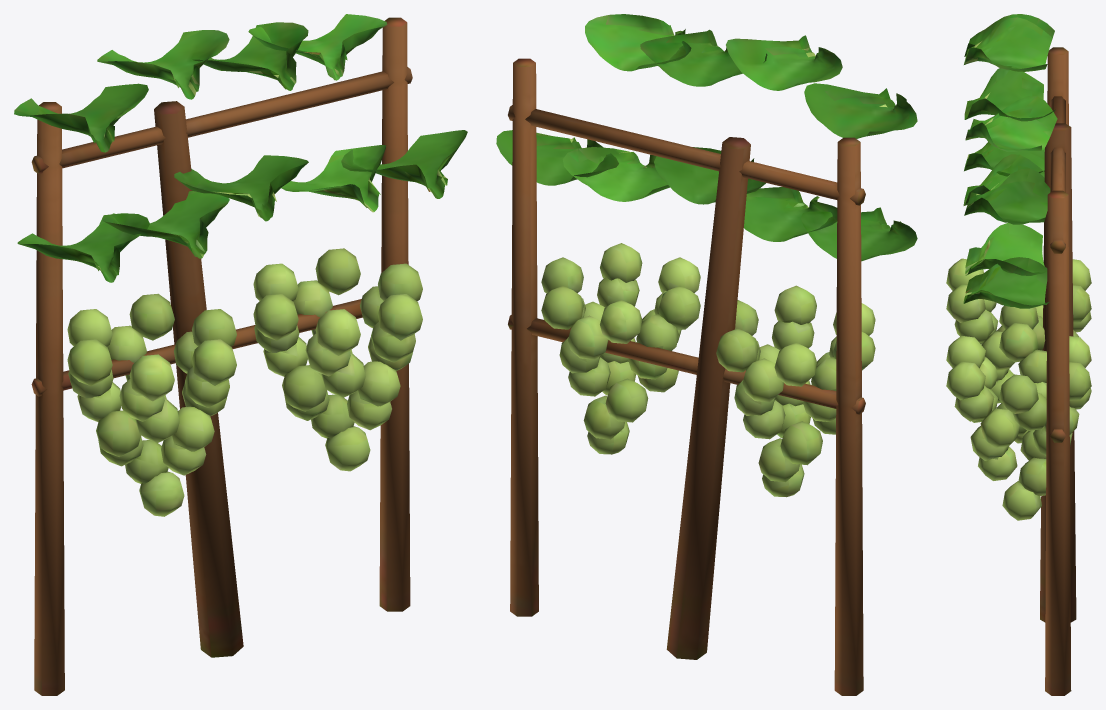
The model's file is crop_hops.glb.
The picture shows the model from 3 angles, left to right: view 1: azimuth 30°, elevation 25°; view 2: azimuth 150°, elevation 25°; view 3: azimuth 270°, elevation 25°; orthographic projection. The views are drawn at different scales.
Visible parts, largest first — view 1: crop_hops, fruit; view 2: crop_hops, fruit; view 3: crop_hops, fruit.
Boxes of the visible parts, bbox=[...] form: crop_hops: bbox=[14, 14, 467, 695]; fruit: bbox=[67, 248, 422, 516]; crop_hops: bbox=[496, 14, 917, 695]; fruit: bbox=[541, 243, 875, 497]; crop_hops: bbox=[963, 14, 1076, 695]; fruit: bbox=[946, 258, 1091, 520].
Bounding box in the file's own units: 0.3364 × 0.4626 × 0.1115.
1 material, 1 textured.
